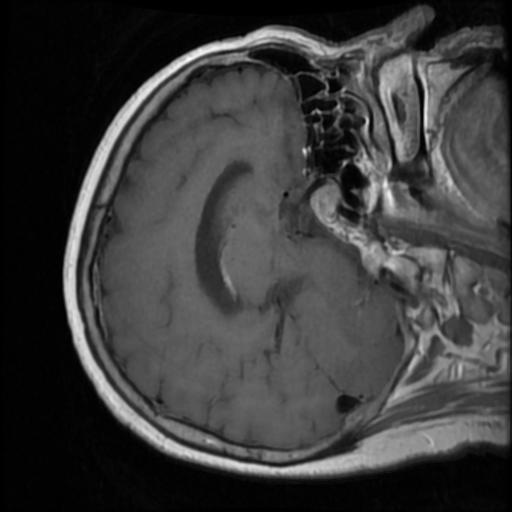pituitary tumour: (308, 183, 342, 223)
